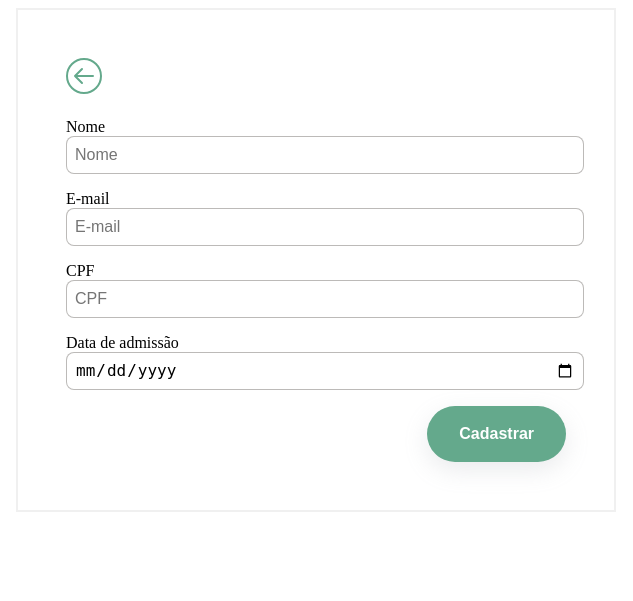
Test: NewUserPage › should display validation errors when submitting empty form
Click the button "Cadastrar" at point(497, 434), box [427,406,566,462]
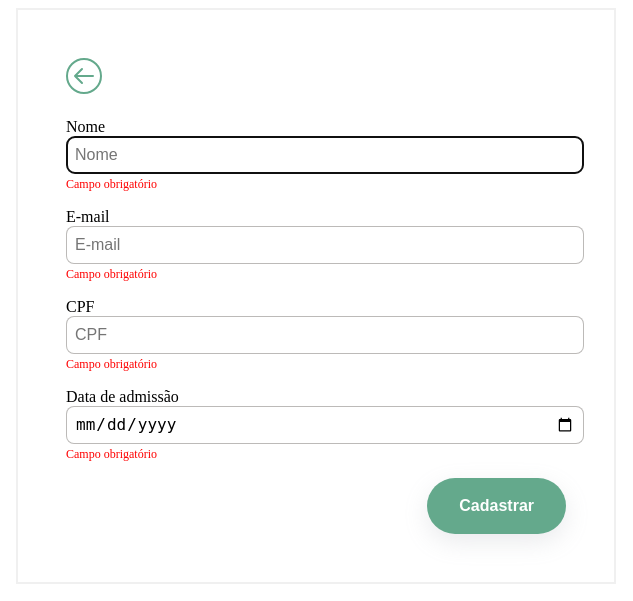
Check: the text "Campo obrigatório" below "Nome" is shown, box [66,177,157,191]
